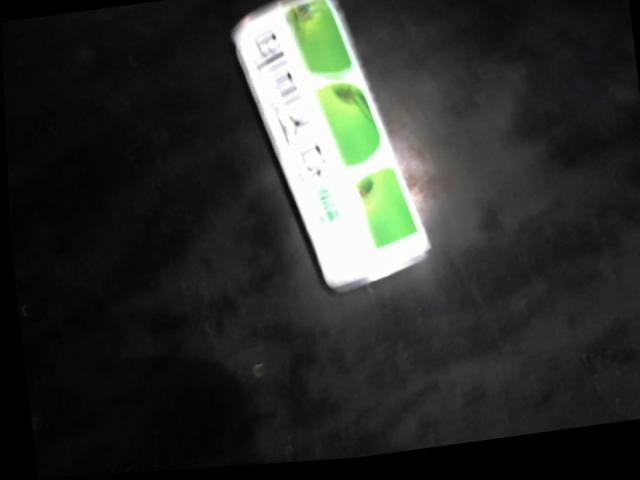can: (228, 0, 432, 303)
